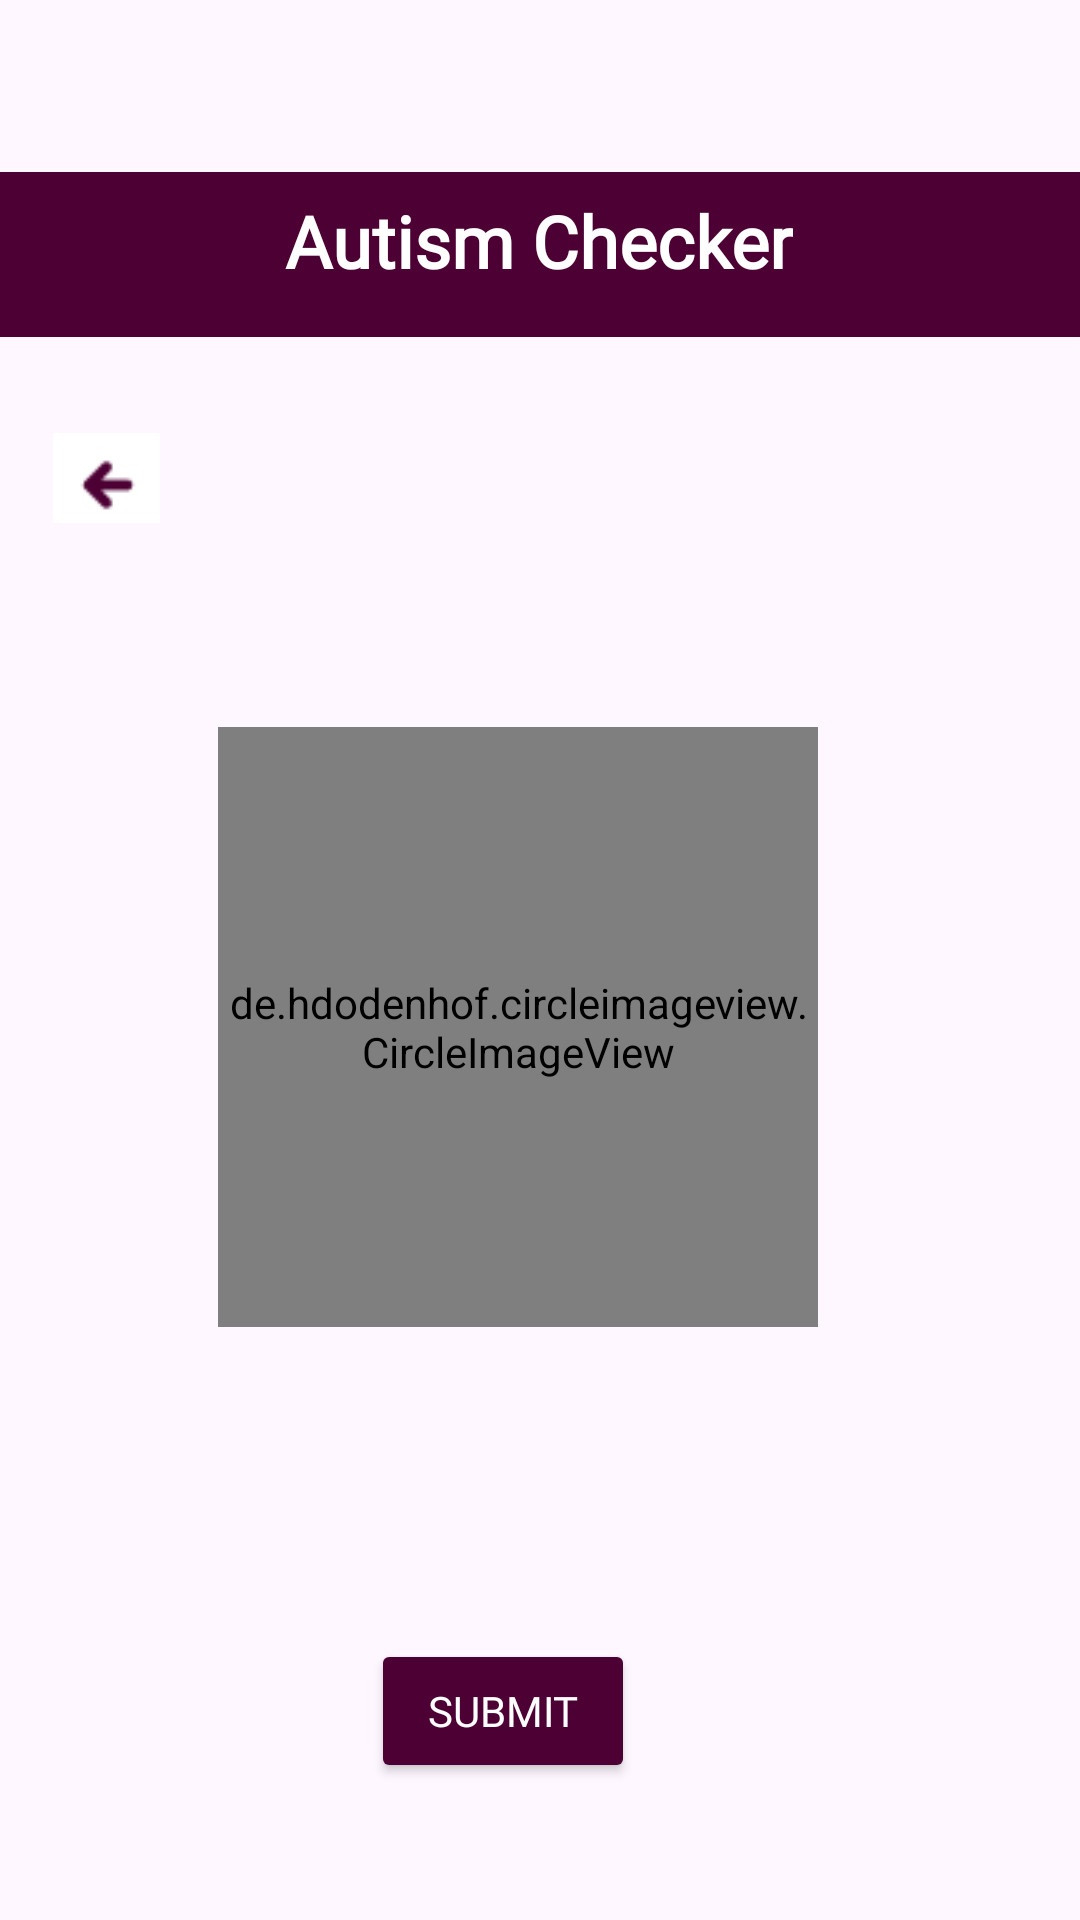

Named icons in this screenshot (1080w x 1920h) and their bounding boxes, bbox=(x1, y1, x2, y2):
backarrow: bbox=(82, 460, 134, 510)
